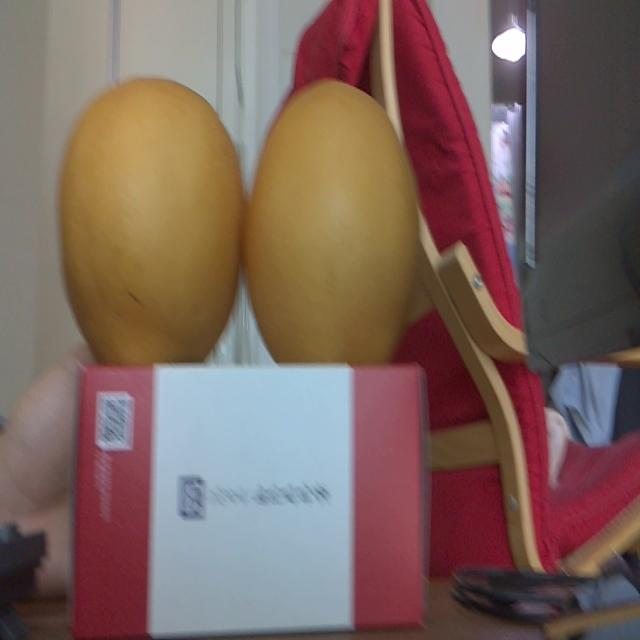pear: (56, 83, 246, 361), (249, 67, 423, 360)
